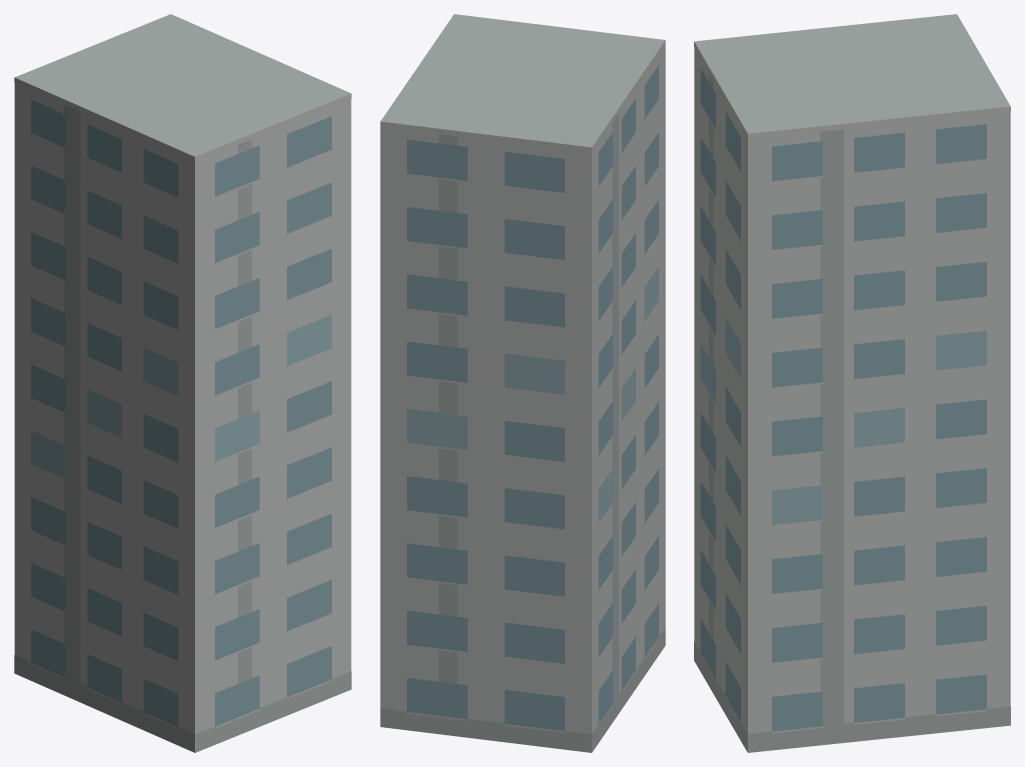
Rendered from residential-a3e461ad-16b7-4aed-a725-bb2287de8737.glb.
3 views of the same model, side by side, from view 1: azimuth 30°, elevation 25°; view 2: azimuth 150°, elevation 25°; view 3: azimuth 270°, elevation 25° (orthographic). The views are drawn at different scales.
Visible parts, largest first — view 1: residential-a3e461ad-16b7-4aed-a725-bb2287de8737.tmp; view 2: residential-a3e461ad-16b7-4aed-a725-bb2287de8737.tmp; view 3: residential-a3e461ad-16b7-4aed-a725-bb2287de8737.tmp.
Boxes of the visible parts, x1,y1,x2,y2 form: residential-a3e461ad-16b7-4aed-a725-bb2287de8737.tmp: [14, 14, 351, 752]; residential-a3e461ad-16b7-4aed-a725-bb2287de8737.tmp: [380, 14, 665, 752]; residential-a3e461ad-16b7-4aed-a725-bb2287de8737.tmp: [694, 14, 1010, 752].
Bounding box in the file's own units: 11.4 × 27.45 × 12.74.
